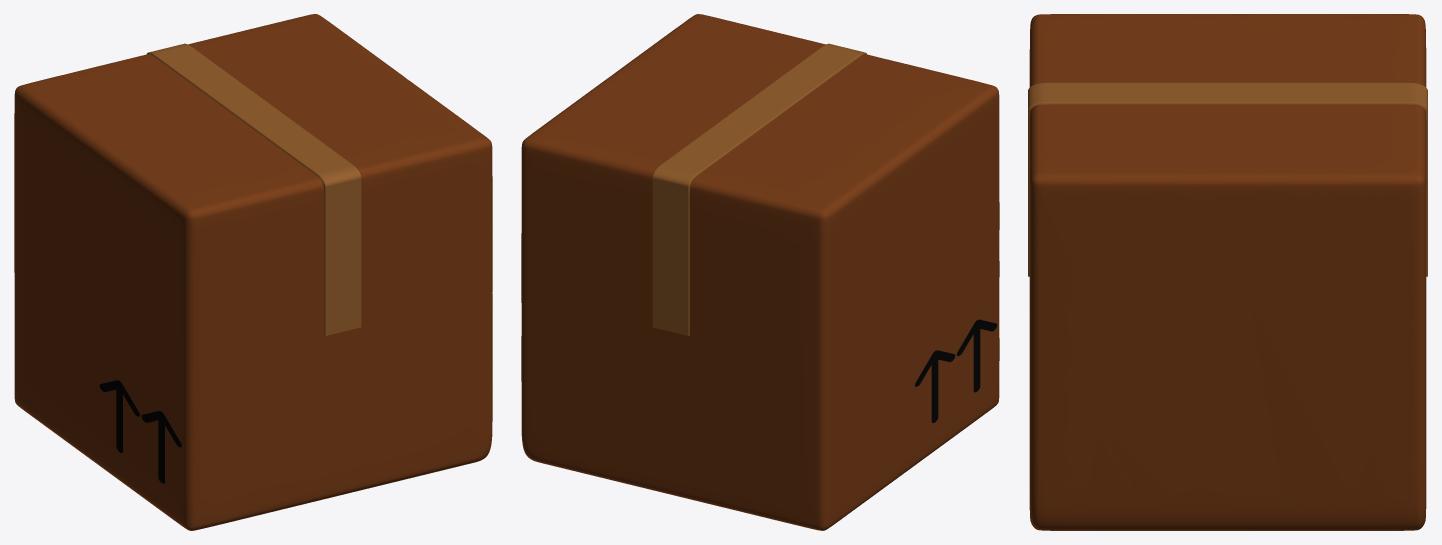
File: Parcel.obj
3 views of the same model, side by side, from view 1: azimuth 30°, elevation 25°; view 2: azimuth 150°, elevation 25°; view 3: azimuth 270°, elevation 25° (orthographic). The views are drawn at different scales.
Visible parts, largest first — view 1: Cube, Cube.002, XMLID_27_.001, XMLID_27_; view 2: Cube, Cube.002, XMLID_27_.001, XMLID_27_; view 3: Cube, Cube.002.
Part boxes in pixels (x1,y1,x2,y2): Cube: [14, 14, 492, 530]; Cube.002: [147, 43, 361, 335]; XMLID_27_.001: [141, 411, 181, 483]; XMLID_27_: [99, 380, 139, 452]; Cube: [521, 14, 999, 530]; Cube.002: [652, 43, 866, 335]; XMLID_27_.001: [957, 319, 997, 392]; XMLID_27_: [915, 350, 955, 422]; Cube: [1029, 14, 1426, 530]; Cube.002: [1028, 82, 1427, 276].
Size of the model in its own units: 2 by 2.01 by 2.02.
